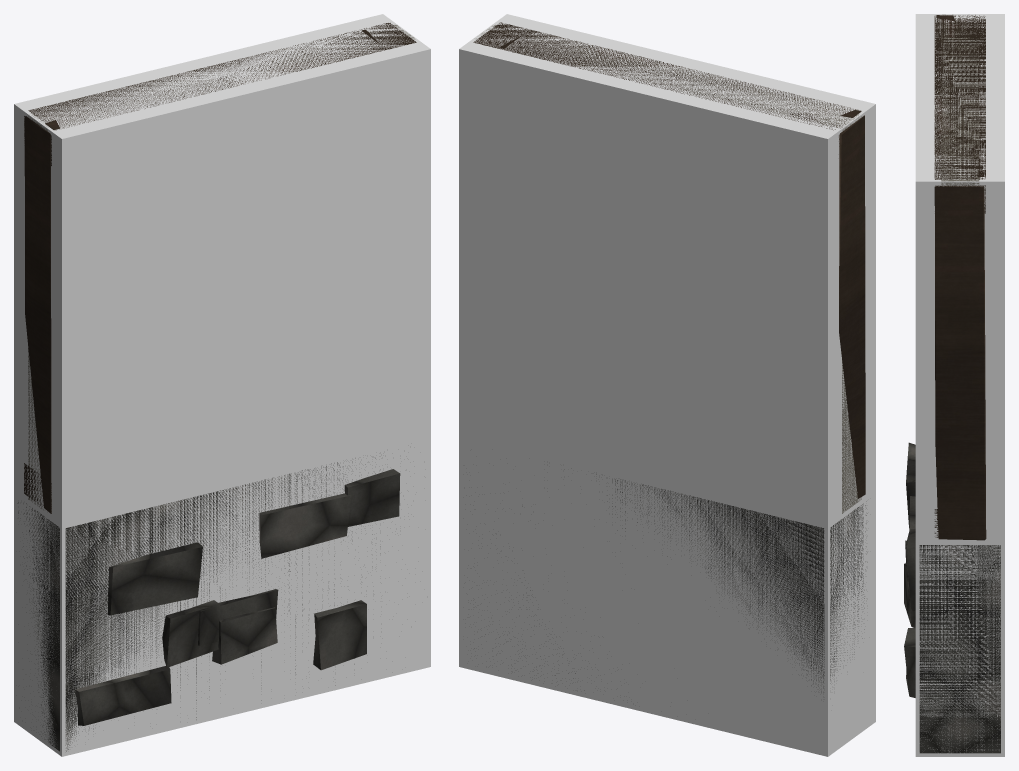
File: ak_wall_mixed_2x3_a.glb
3 views of the same model, side by side, from view 1: azimuth 30°, elevation 25°; view 2: azimuth 150°, elevation 25°; view 3: azimuth 270°, elevation 25° (orthographic). The views are drawn at different scales.
Visible parts, largest first — view 1: col_wall, wall, frame; view 2: col_wall, wall, frame; view 3: col_wall, frame, wall.
Part boxes in pixels (x1,y1,x2,y2): col_wall: [14, 14, 430, 756]; wall: [17, 25, 415, 751]; frame: [24, 23, 416, 513]; col_wall: [459, 14, 875, 756]; wall: [474, 25, 867, 692]; frame: [473, 22, 865, 498]; col_wall: [915, 14, 1004, 756]; frame: [934, 15, 986, 540]; wall: [904, 14, 1000, 753].
Size of the model in its own units: 2.02 by 3.2 by 0.5088.
Materials: 3 (3 with a texture image).
